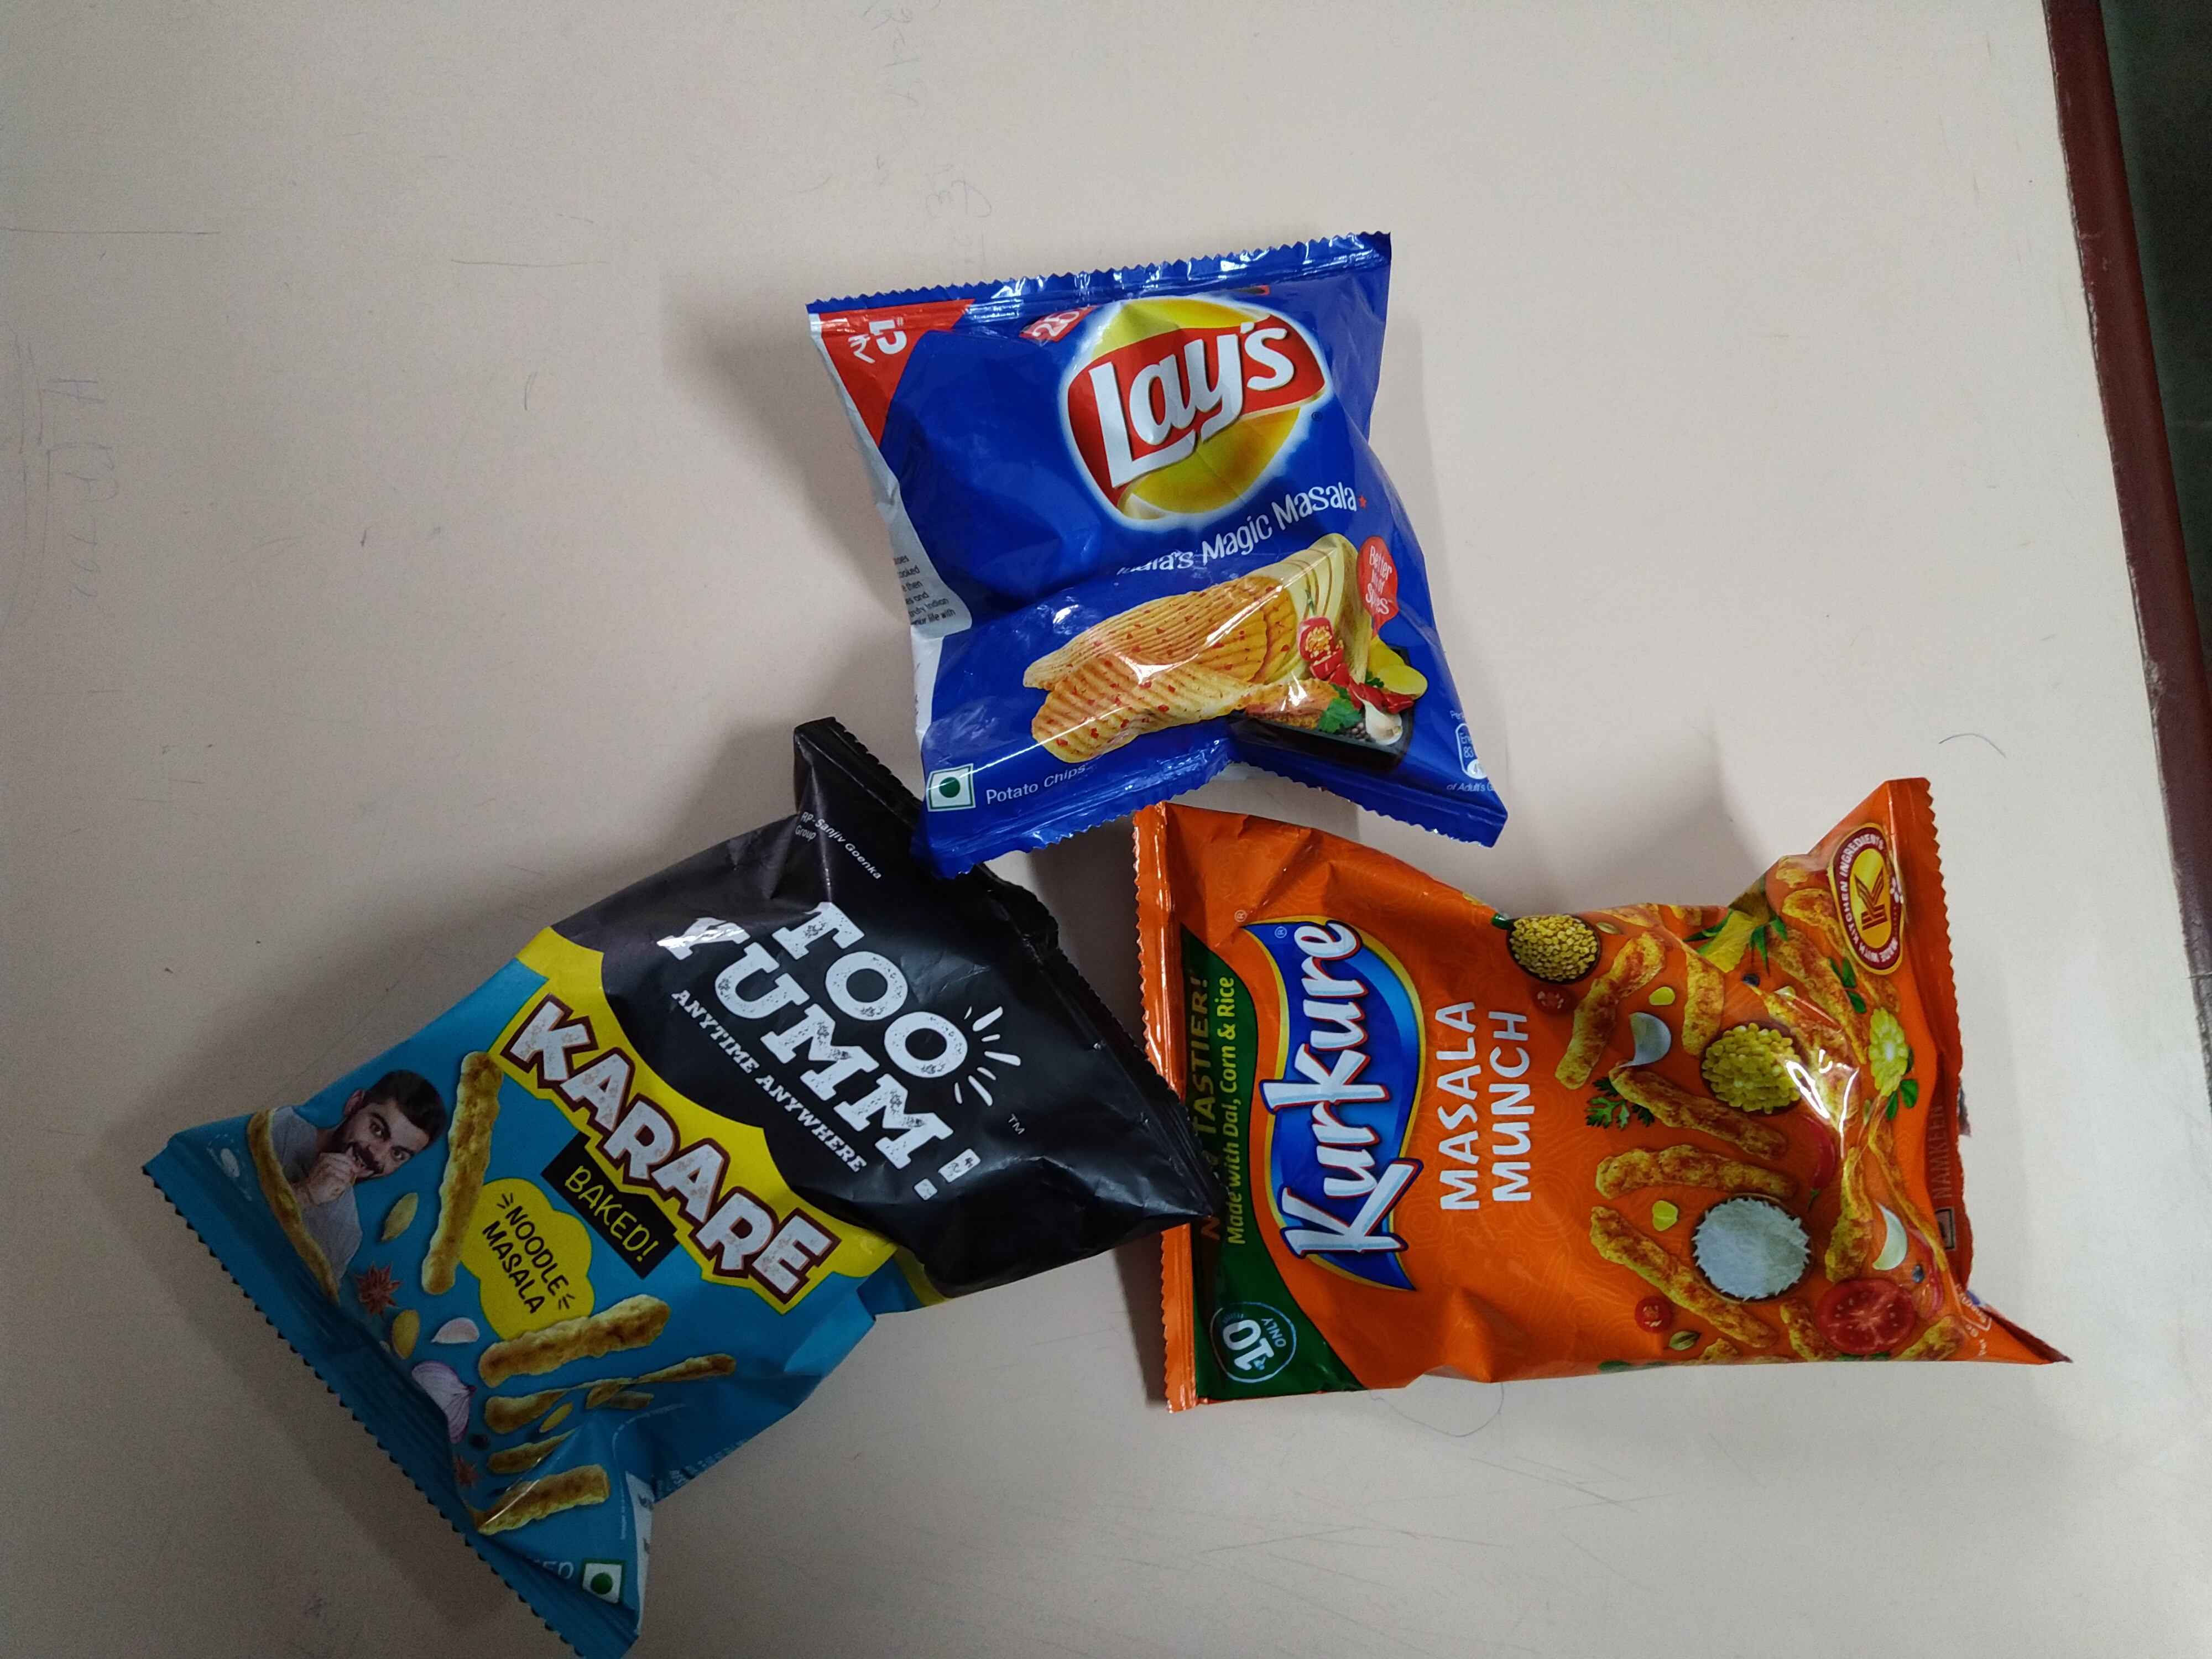Lays: (1040, 289, 1355, 565)
kurkure: (1259, 913, 1426, 1297)
tooyumm: (664, 892, 1061, 1162)
